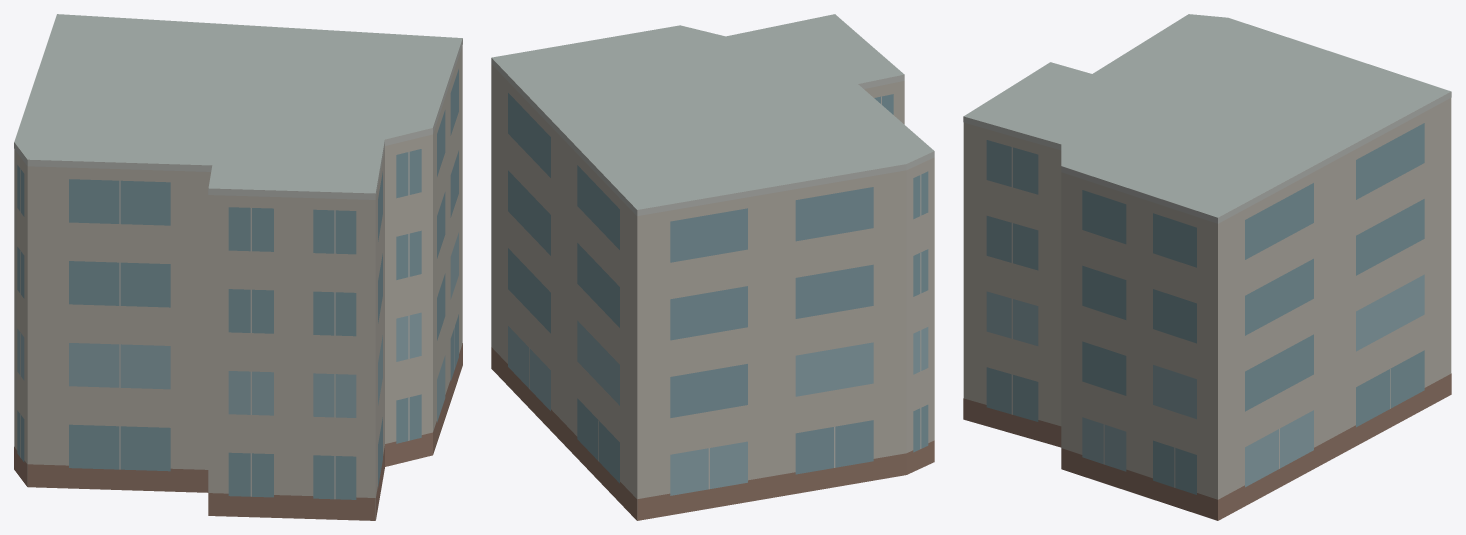
Rendered from residential-c3a896d5-75f1-4b29-829e-9db956217c2e.glb.
3 renders of one model, left to right at view 1: azimuth 30°, elevation 25°; view 2: azimuth 150°, elevation 25°; view 3: azimuth 270°, elevation 25°, orthographic. The views are drawn at different scales.
Parts seen in each view (by area): view 1: residential-c3a896d5-75f1-4b29-829e-9db956217c2e.tmp; view 2: residential-c3a896d5-75f1-4b29-829e-9db956217c2e.tmp; view 3: residential-c3a896d5-75f1-4b29-829e-9db956217c2e.tmp.
Boxes of the visible parts, <box> form: residential-c3a896d5-75f1-4b29-829e-9db956217c2e.tmp: <box>14,14,462,520</box>; residential-c3a896d5-75f1-4b29-829e-9db956217c2e.tmp: <box>491,14,934,520</box>; residential-c3a896d5-75f1-4b29-829e-9db956217c2e.tmp: <box>963,14,1451,520</box>.
Size of the model in its own units: 17.6 by 12.2 by 17.81.
